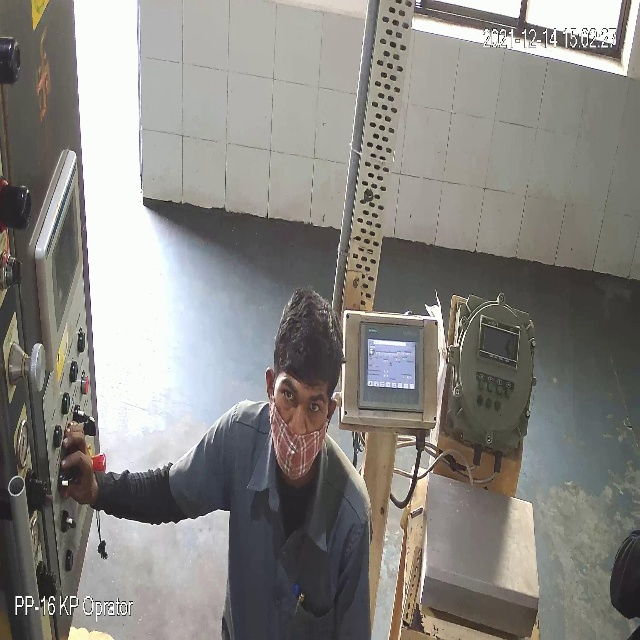Sin_gafas: (274, 380, 330, 421)
